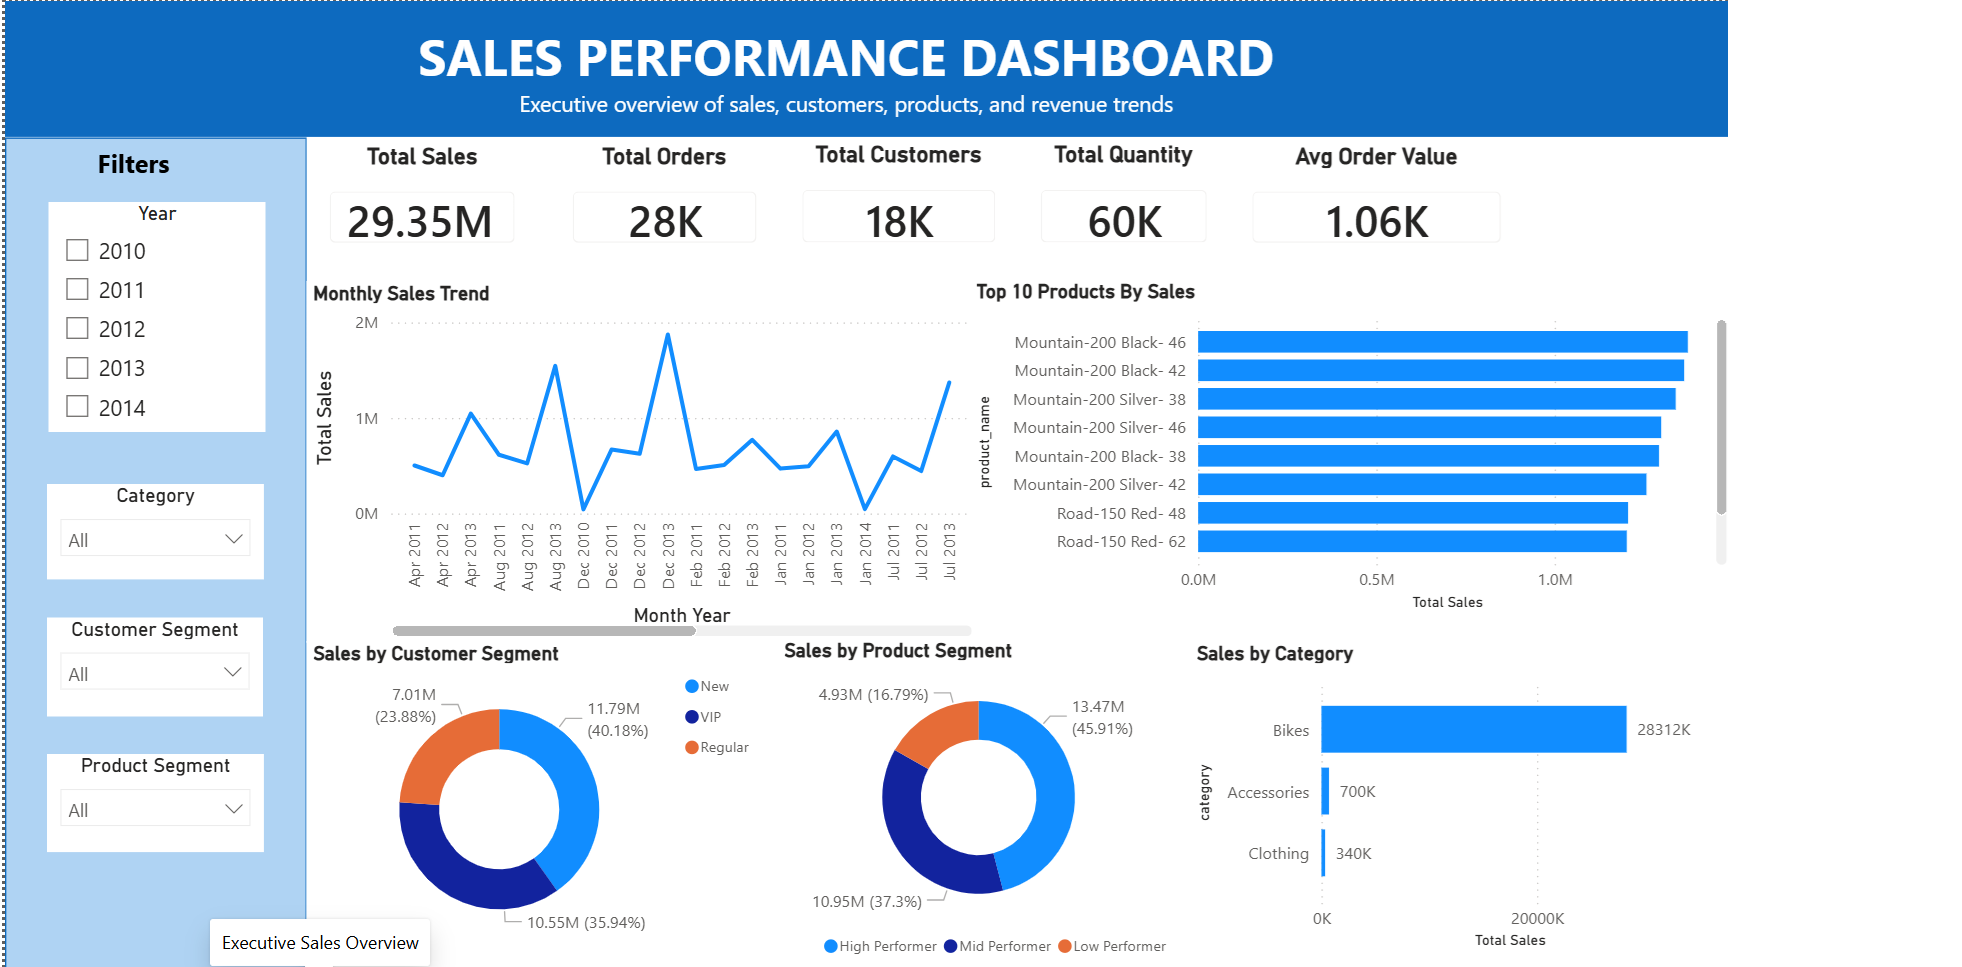

What the dashboard file says about the page in this screenshot:
{"tool":"powerbi","page":{"name":"Executive Sales Overview","canvas":[1280,720],"ordinal":1},"visuals":[{"type":"cardVisual","title":"Total Sales","fields":{"Data":["_Measures.Total Sales"]},"box":[222.9,104.3,171.4,91.4],"z":0},{"type":"cardVisual","title":"Total Orders","fields":{"Data":["_Measures.Total Orders"]},"box":[402.9,104.3,170,91.4],"z":1000},{"type":"cardVisual","title":"Total Quantity","fields":{"Data":["_Measures.Total Quantity"]},"box":[750,102.9,157.1,92.9],"z":2000},{"type":"cardVisual","title":"Total Customers","fields":{"Data":["_Measures.Total Customers"]},"box":[572.9,102.9,177.1,92.9],"z":3000},{"type":"cardVisual","title":"Avg Order Value","fields":{"Data":["_Measures.Average Order Value"]},"box":[907.1,104.3,218.6,91.4],"z":4000},{"type":"shape","box":[0,100.9,223.6,619.1],"z":5000},{"type":"textbox","box":[59.1,101.8,72.7,36.4],"z":6000},{"type":"slicer","title":"Year","fields":{"Values":["Date Table.Year"]},"box":[31.8,149.1,160.9,170],"z":7000},{"type":"slicer","title":"Category","fields":{"Values":["product_report.category"]},"box":[31.1,358.2,160.9,70.9],"z":8000},{"type":"slicer","title":"Customer Segment","fields":{"Values":["customer_report.customer_segment"]},"box":[31.6,456.7,160,73.6],"z":9000},{"type":"slicer","title":"Product Segment","fields":{"Values":["product_report.product_segment"]},"box":[31.1,557.9,160.9,72.7],"z":10000},{"type":"shape","title":"SALES PERFORMANCE DASHBOARD","box":[0,0,1280,100.9],"z":11000},{"type":"textbox","box":[131.8,10,981.8,81.8],"z":12000},{"type":"lineChart","title":"Monthly Sales Trend","fields":{"Category":["Date Table.Month Year"],"Y":["_Measures.Total Sales"]},"box":[223.8,207.5,497.5,267.5],"z":13000},{"type":"clusteredBarChart","title":"Sales by Category","fields":{"Category":["product_report.category"],"Y":["_Measures.Total Sales"]},"box":[878.2,474.5,401.8,231.8],"z":14000},{"type":"donutChart","title":"Sales by Customer Segment","fields":{"Y":["_Measures.Total Sales"],"Category":["customer_report.customer_segment"]},"box":[223.6,474.5,341.8,231.8],"z":15000},{"type":"donutChart","title":"Sales by Product Segment","fields":{"Y":["_Measures.Total Sales"],"Category":["product_report.product_segment"]},"box":[572.7,471.8,297.3,245.5],"z":16000},{"type":"clusteredBarChart","title":"Top 10 Products By Sales","fields":{"Category":["product_report.product_name"],"Y":["_Measures.Total Sales"]},"box":[714.3,207.1,565.7,248.6],"z":17000}]}

Visuals, with their boxes on the page's 1280x720 design canvas (x1, y1, x2, y2). These are canvas units, not pixel positions in the 1962x967 screenshot, which may show the page scaled, cropped or inside an application window:
"Total Sales" cardVisual: 223:104:394:196
"Total Orders" cardVisual: 403:104:573:196
"Total Quantity" cardVisual: 750:103:907:196
"Total Customers" cardVisual: 573:103:750:196
"Avg Order Value" cardVisual: 907:104:1126:196
shape: 0:101:224:720
textbox: 59:102:132:138
"Year" slicer: 32:149:193:319
"Category" slicer: 31:358:192:429
"Customer Segment" slicer: 32:457:192:530
"Product Segment" slicer: 31:558:192:631
"SALES PERFORMANCE DASHBOARD" shape: 0:0:1280:101
textbox: 132:10:1114:92
"Monthly Sales Trend" lineChart: 224:208:721:475
"Sales by Category" clusteredBarChart: 878:474:1280:706
"Sales by Customer Segment" donutChart: 224:474:565:706
"Sales by Product Segment" donutChart: 573:472:870:717
"Top 10 Products By Sales" clusteredBarChart: 714:207:1280:456
